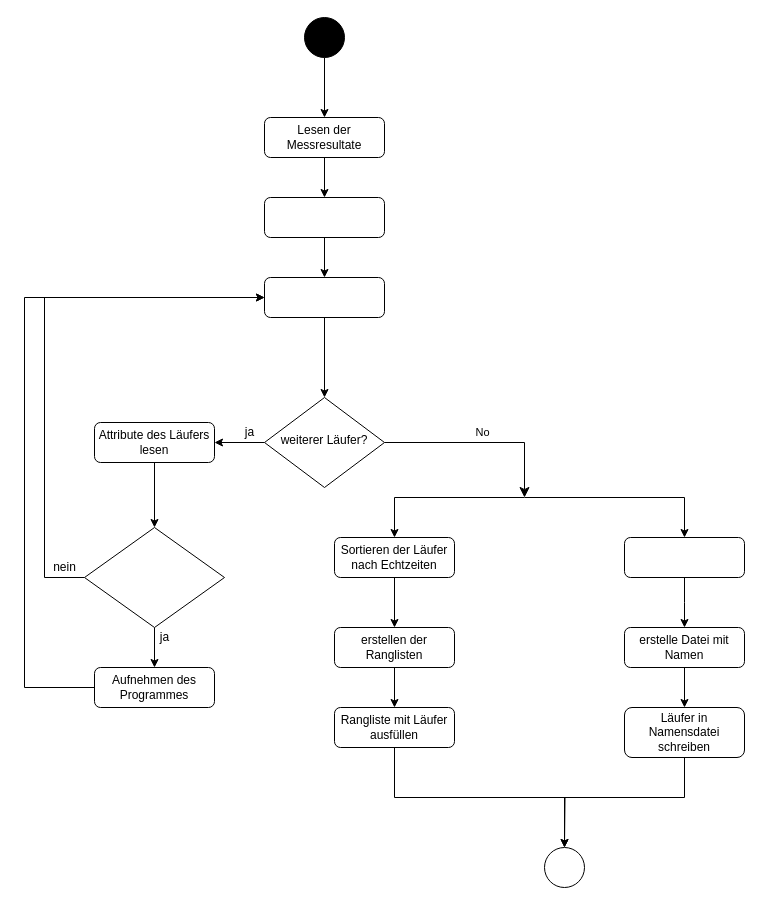
Image size: 762x905. Some labels were removed from this diagram. The shapes that lost their labels are listed below. From the top down, each one's centre as x and y in pixels, then its label:
At point (324, 217): "Läuferliste auffüllen".
At point (324, 297): "lesen der Startliste".
At point (154, 577): "Am Ziel angekommen?".
At point (684, 557): "Läufer nach Namen sortieren".
